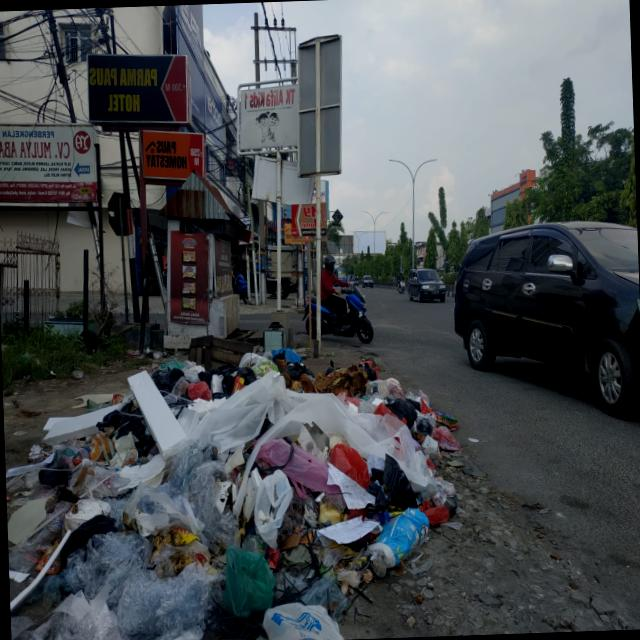garbage: (2, 338, 465, 640)
